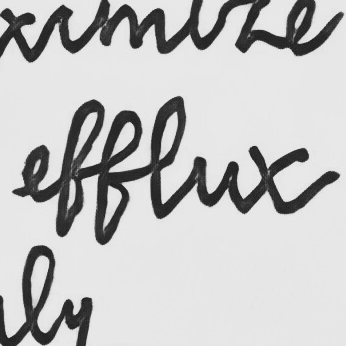e: (18, 143, 55, 204)
f: (52, 96, 107, 238), (92, 109, 144, 246)
l: (147, 94, 188, 220)
u: (190, 153, 240, 209)
x: (243, 143, 311, 217)
